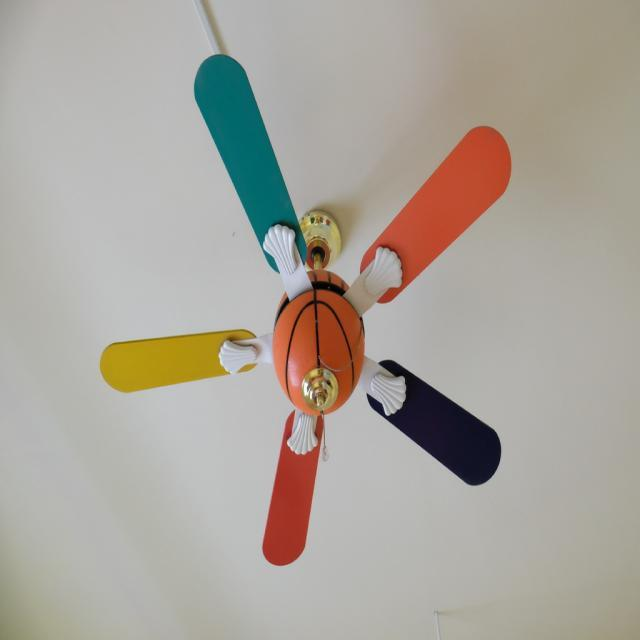fan_off: (104, 55, 518, 570)
